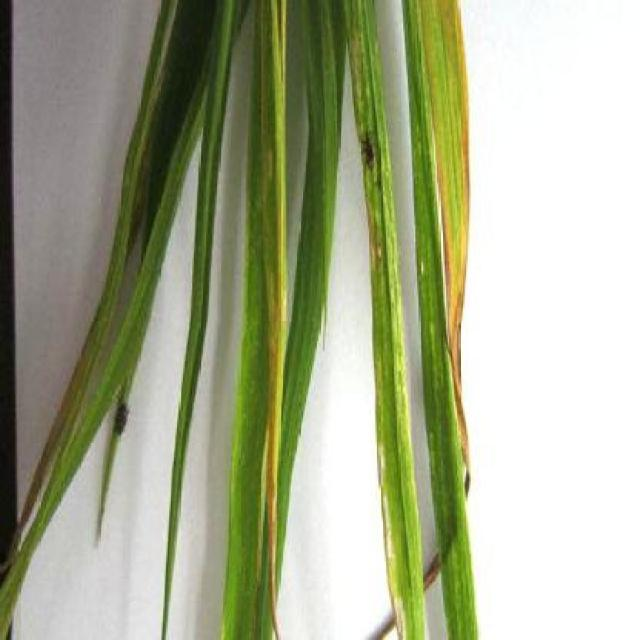rice-bug: (360, 125, 382, 167), (112, 392, 132, 437)
